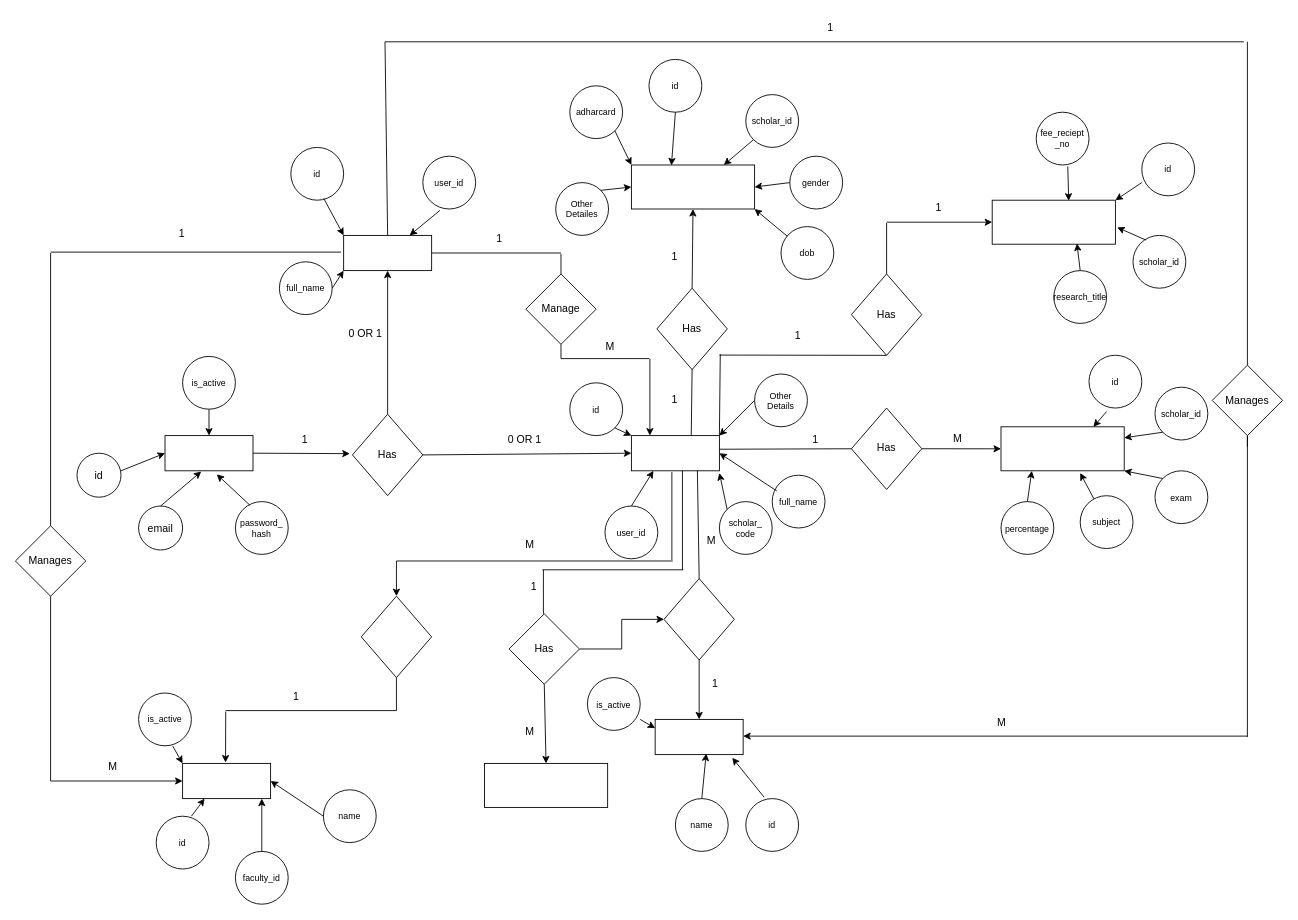
Some shapes in this 1298 by 920 pixel diagram are drawn without their labels. The centre of each missing label's shape, as x and y in pixels:
"Acedmic_details" belongs at [1053,221].
"Admin" belongs at [387,253].
"Assigned to" belongs at [698,619].
"Education_details" belongs at [1062,448].
"Experience_detailes" belongs at [546,785].
"Faculties" belongs at [698,737].
"Personal_detailes" belongs at [693,186].
"Scholars" belongs at [675,453].
"Selects" belongs at [396,636].
"Subjects" belongs at [226,781].
"Users" belongs at [208,453].
